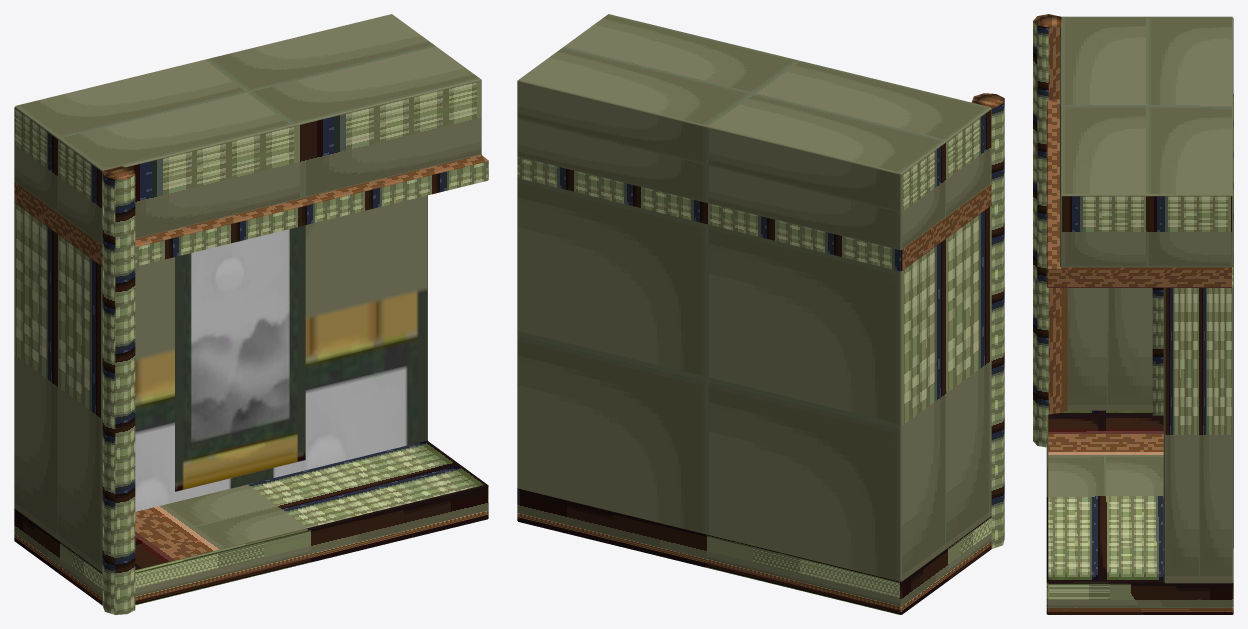
File: int_oth_alcove.dae
3 views of the same model, side by side, from view 1: azimuth 30°, elevation 25°; view 2: azimuth 150°, elevation 25°; view 3: azimuth 270°, elevation 25° (orthographic). The views are drawn at different scales.
Parts seen in each view (by area): view 1: int_oth_alcove; view 2: int_oth_alcove; view 3: int_oth_alcove.
Part boxes in pixels (x1=…): int_oth_alcove: x1=14, y1=14, x2=488, y2=614; int_oth_alcove: x1=517, y1=14, x2=1004, y2=614; int_oth_alcove: x1=1033, y1=14, x2=1233, y2=614.
Bounding box in the file's own units: 64 × 69.37 × 30.03.
3 materials, 3 textured.
